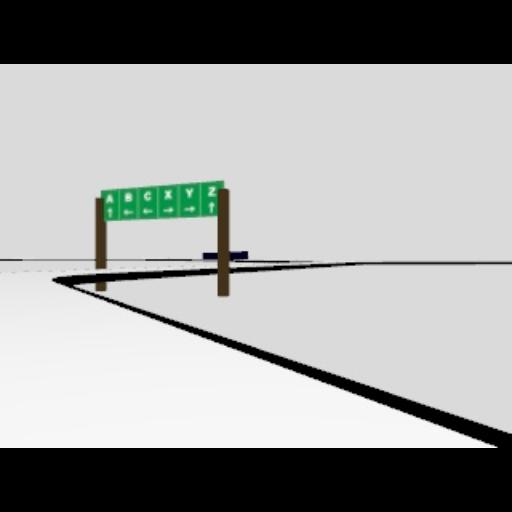A: (105, 193, 113, 203)
B: (124, 192, 134, 202)
C: (144, 191, 152, 201)
Left: (122, 210, 134, 216), (142, 208, 152, 214)
Right: (182, 205, 196, 211), (162, 207, 172, 213)
Straight: (208, 200, 214, 214), (107, 208, 113, 218)
X: (164, 190, 172, 200)
Y: (184, 188, 194, 198)
Z: (207, 187, 217, 197)
